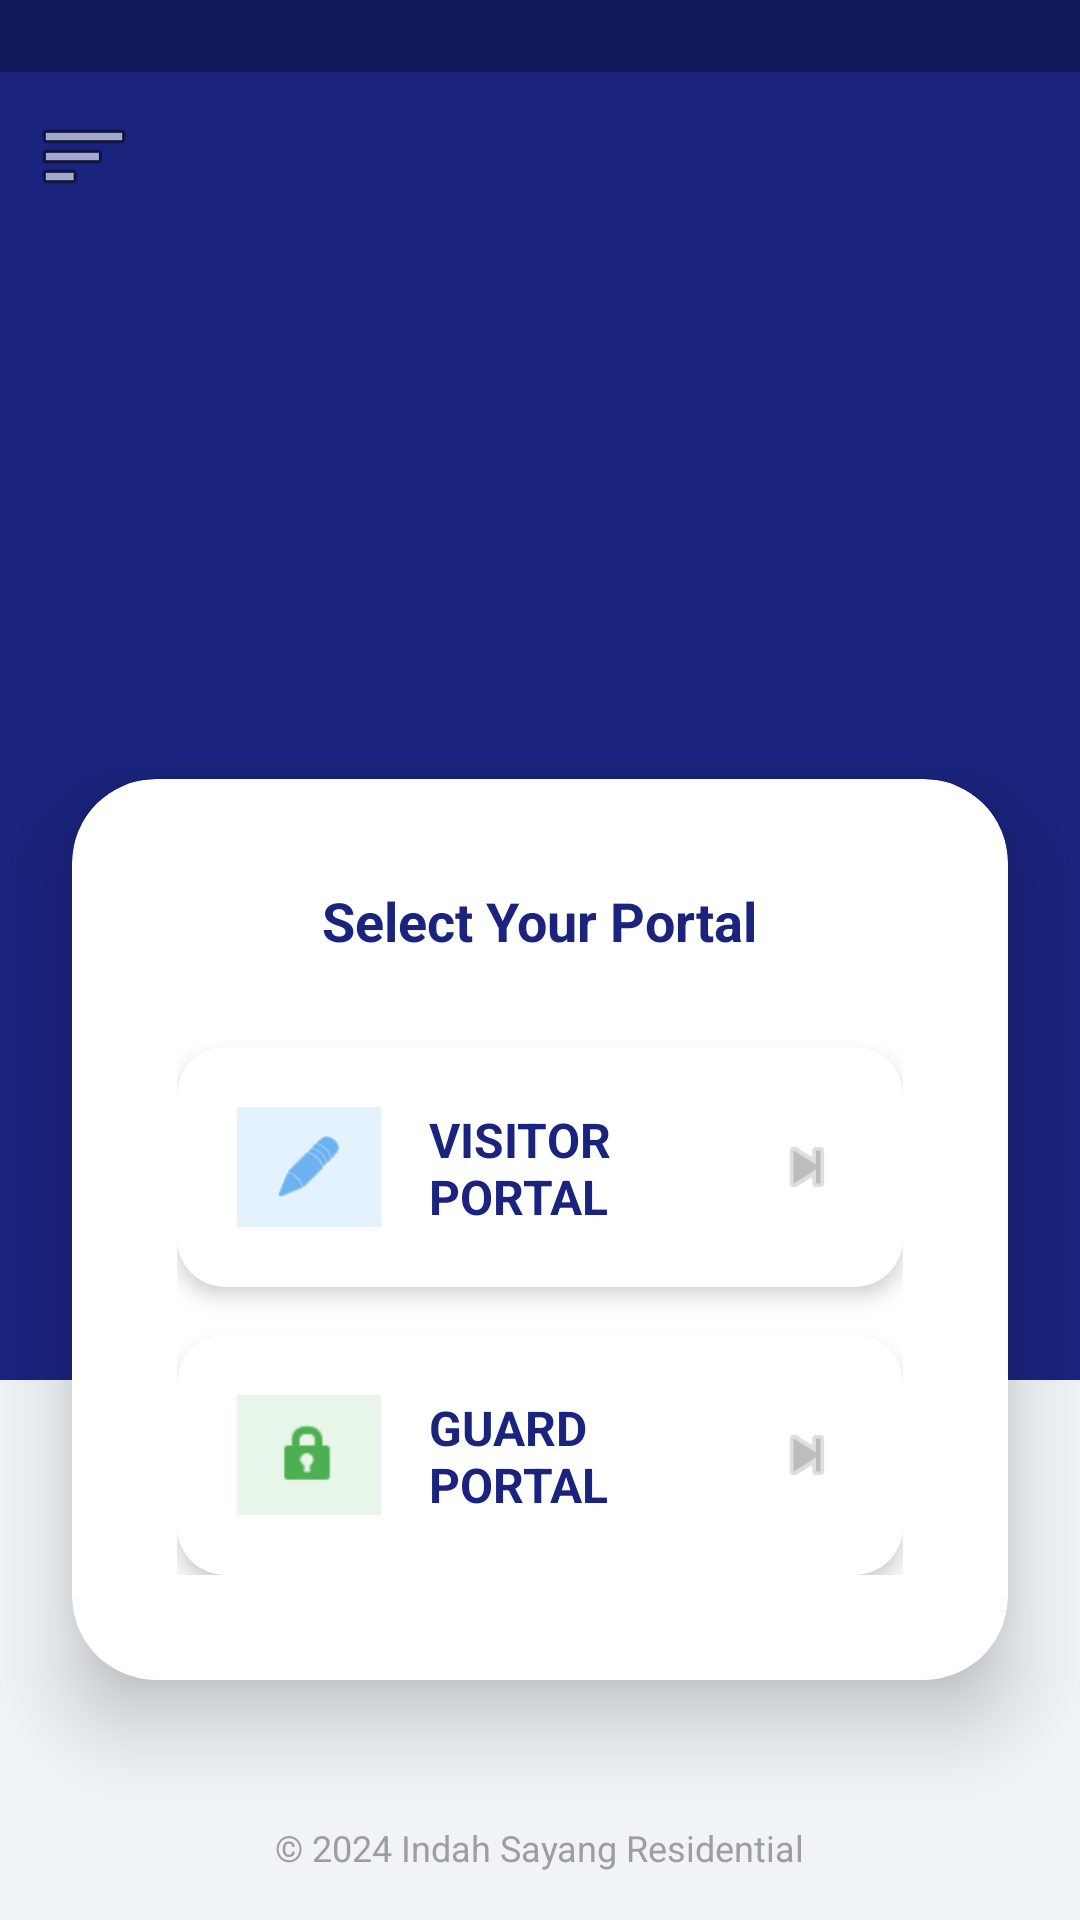

Icons on this 1080px×1920px Android screen, each with its box as box(x1, y1, x2, y2):
edit: box(278, 1136, 339, 1197)
lock idle: box(284, 1425, 331, 1480)
next: box(790, 1147, 824, 1187), box(790, 1435, 824, 1475)
